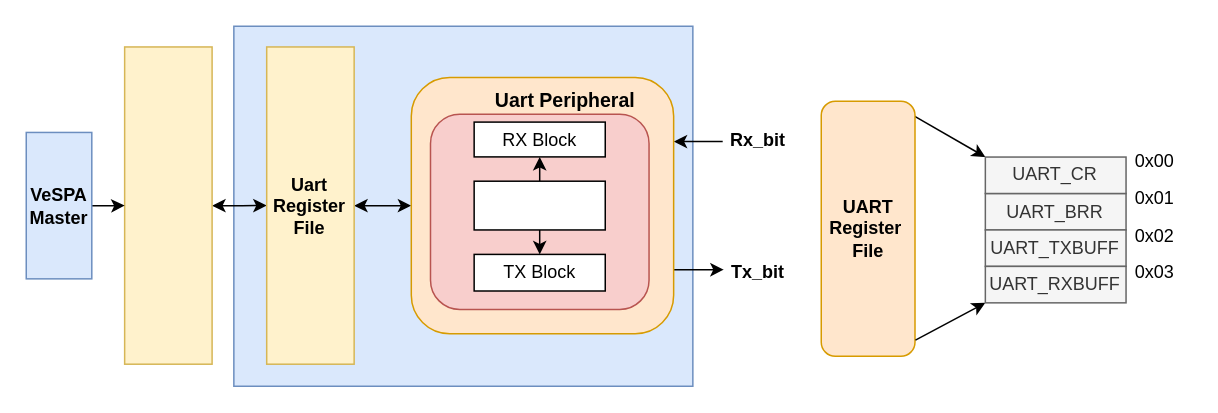
Image size: 1218x413. Some labels were removed from this diagram. The box of each missing label's shape, as (x1, y1, x2, y2) in pixels:
Baud Rate Generator: (473, 180, 605, 230)
Custom Interconnect: (123, 45, 212, 364)
